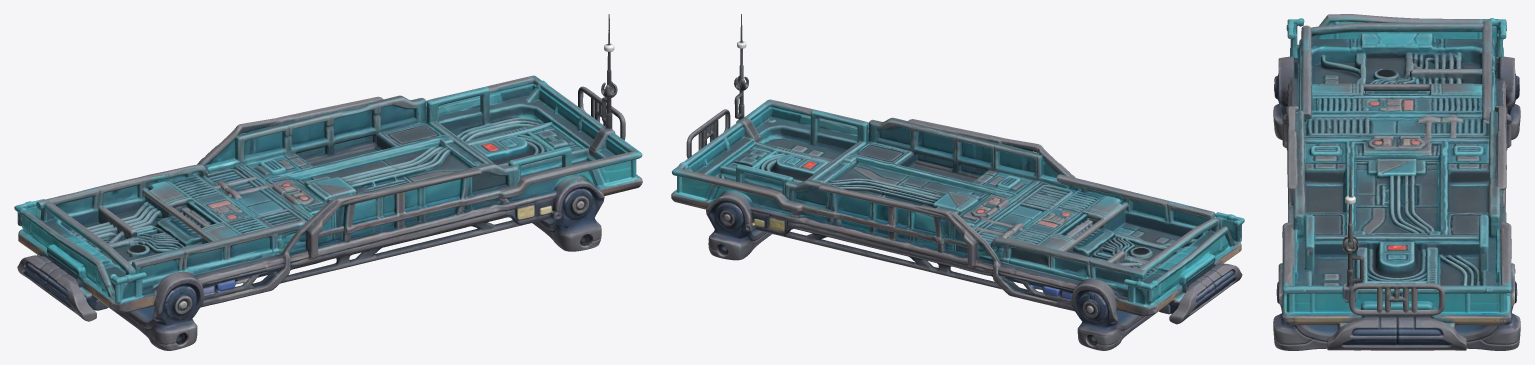
The model's file is bridge.glb.
3 views of the same model, side by side, from view 1: azimuth 30°, elevation 25°; view 2: azimuth 150°, elevation 25°; view 3: azimuth 270°, elevation 25° (orthographic). The views are drawn at different scales.
Parts seen in each view (by area): view 1: tripo_node_c5b545fe-ad76-4376-9749-2a6cf4afa284; view 2: tripo_node_c5b545fe-ad76-4376-9749-2a6cf4afa284; view 3: tripo_node_c5b545fe-ad76-4376-9749-2a6cf4afa284.
Part boxes in pixels (x1,y1,x2,y2): tripo_node_c5b545fe-ad76-4376-9749-2a6cf4afa284: [14, 14, 642, 350]; tripo_node_c5b545fe-ad76-4376-9749-2a6cf4afa284: [671, 14, 1244, 350]; tripo_node_c5b545fe-ad76-4376-9749-2a6cf4afa284: [1273, 14, 1520, 350].
Bounding box in the file's own units: 0.9789 × 0.3272 × 0.3509.
Materials: 1 (1 with a texture image).
